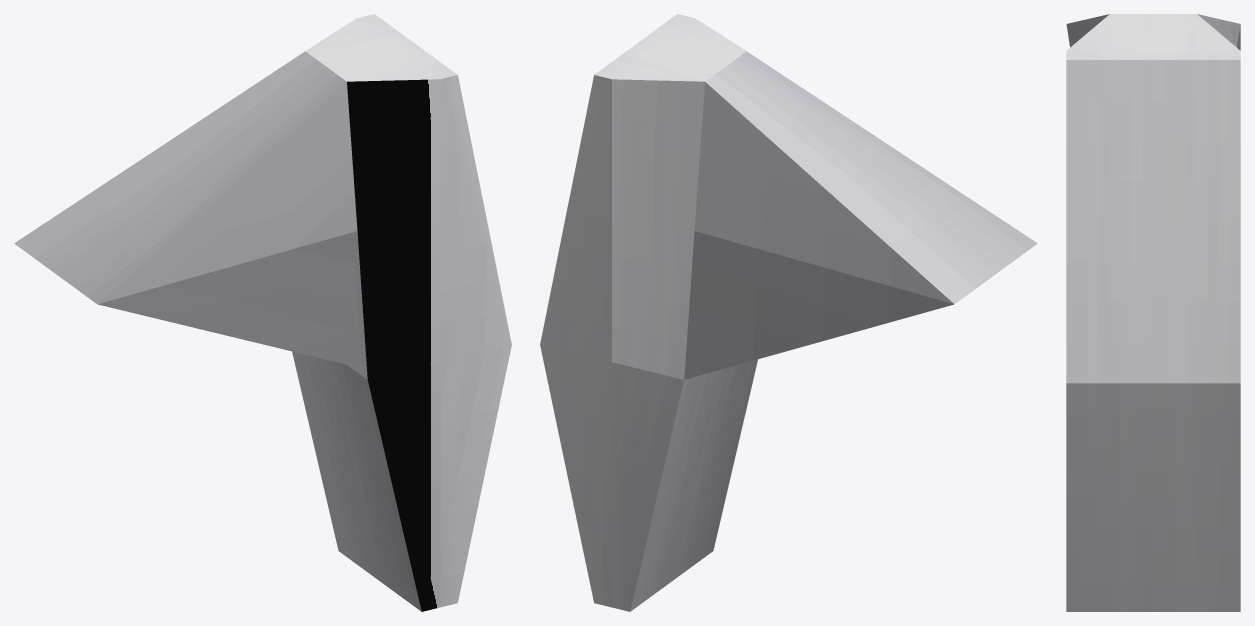
Rendered from gun.glb.
3 renders of one model, left to right at view 1: azimuth 30°, elevation 25°; view 2: azimuth 150°, elevation 25°; view 3: azimuth 270°, elevation 25°, orthographic. The views are drawn at different scales.
Parts seen in each view (by area): view 1: Cube; view 2: Cube; view 3: Cube.
Part boxes in pixels (x1,y1,x2,y2): Cube: (14,14,511,611); Cube: (540,14,1037,611); Cube: (1066,14,1240,611).
Bounding box in the file's own units: 1.15 × 1.4 × 0.4.
1 material, 1 textured.
